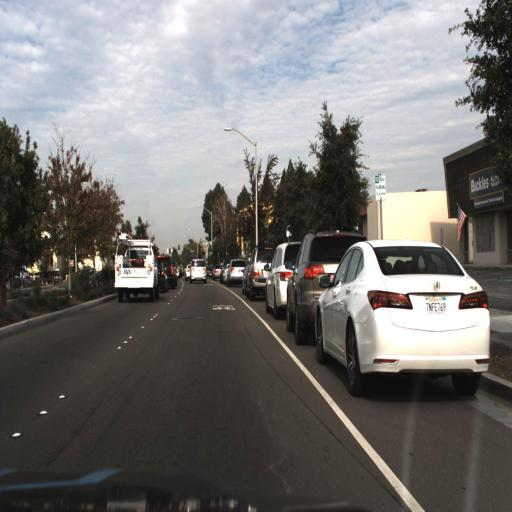car: (314, 232, 497, 422), (282, 228, 319, 360), (109, 236, 159, 307), (262, 236, 297, 322), (260, 232, 291, 326), (242, 243, 271, 305), (243, 245, 274, 300), (185, 256, 210, 287), (226, 253, 245, 293), (223, 258, 246, 291), (163, 251, 178, 294), (157, 251, 169, 299)
